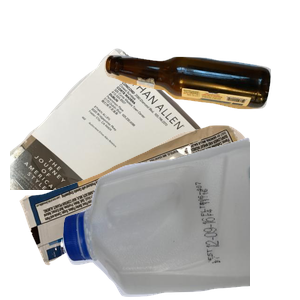glass: (101, 52, 300, 154)
paper: (10, 46, 250, 226)
plastic: (60, 135, 300, 300)
trash: (17, 123, 257, 300)
